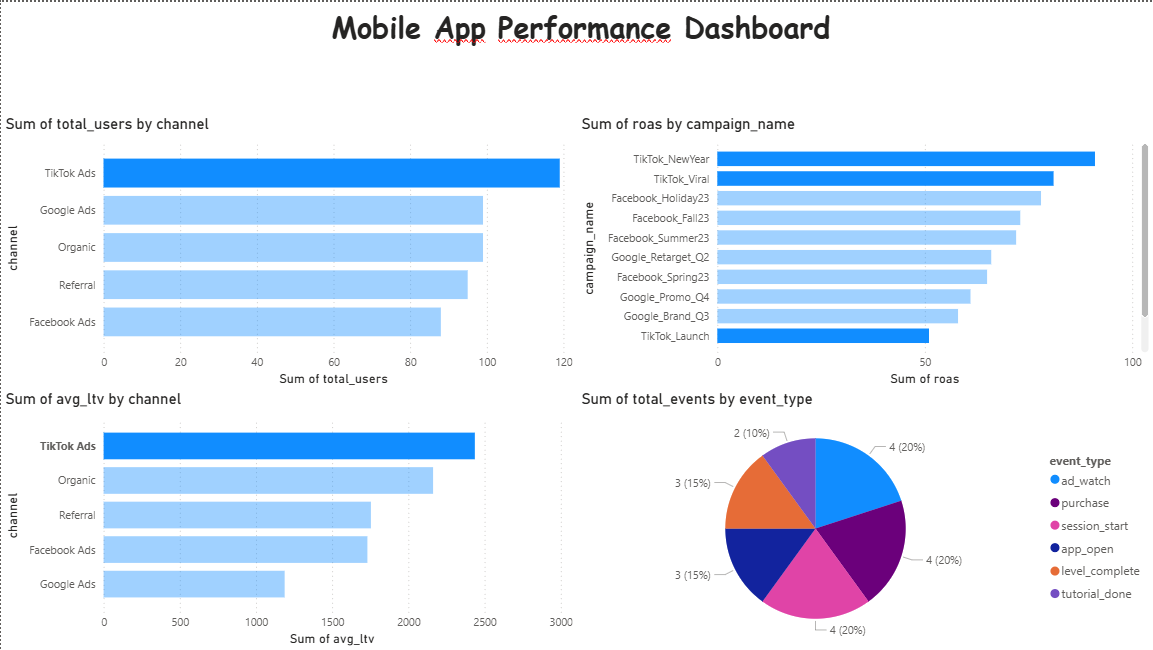

The dashboard page shown, as its layout file describes it:
{"tool":"powerbi","page":{"name":"Page 1","canvas":[1280,720],"ordinal":0},"visuals":[{"type":"clusteredBarChart","fields":{"Category":["channel_ltv.channel"],"Y":["Sum(channel_ltv.total_users)"]},"box":[0,125.6,640,305.6],"z":0},{"type":"clusteredBarChart","fields":{"Category":["campaign_performance.campaign_name"],"Y":["Sum(campaign_performance.roas)"]},"box":[640,125.6,640,305.6],"z":1000},{"type":"pieChart","fields":{"Category":["event_summary.event_type"],"Y":["Sum(event_summary.total_events)"]},"box":[640,431.1,640,288.9],"z":2000},{"type":"clusteredBarChart","fields":{"Category":["channel_ltv.channel"],"Y":["Sum(channel_ltv.avg_ltv)"]},"box":[0,431.1,640,288.9],"z":3000},{"type":"textbox","box":[362.2,0,597.8,51.1],"z":3001}]}

Visuals, with their boxes in screenshot pixels (x1, y1, x2, y2), scaled from the page's 1280x720 canvas onto the 1153x650 screenshot:
clusteredBarChart - channel_ltv.channel x Sum(channel_ltv.total_users): (x1=0, y1=113, x2=576, y2=389)
clusteredBarChart - campaign_performance.campaign_name x Sum(campaign_performance.roas): (x1=576, y1=113, x2=1152, y2=389)
pieChart - event_summary.event_type x Sum(event_summary.total_events): (x1=576, y1=389, x2=1152, y2=649)
clusteredBarChart - channel_ltv.channel x Sum(channel_ltv.avg_ltv): (x1=0, y1=389, x2=576, y2=649)
textbox: (x1=326, y1=0, x2=865, y2=46)
